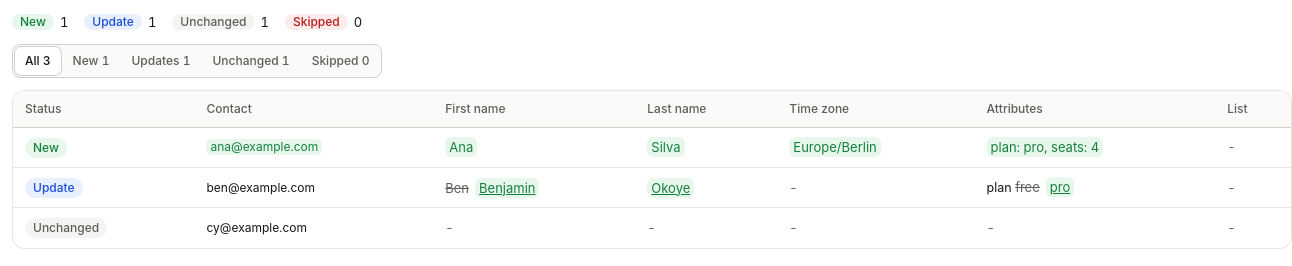
Test: ContactDiff summary and chips › a group with no rows says so instead of an empty table
This screenshot has width=1292, height=266.
Click the radio button labelled "Skipped 0" at (340, 61), box [302,47,379,75]
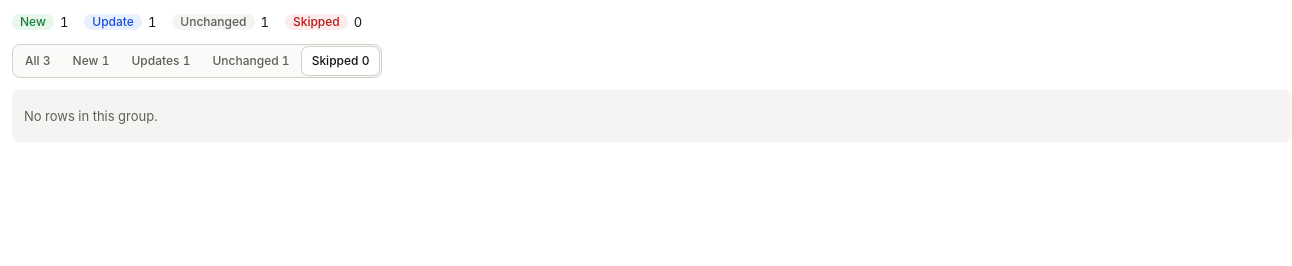
Expected: the text "No rows in this group." is shown, [12,90,1291,142]
Expected: the table is gone
